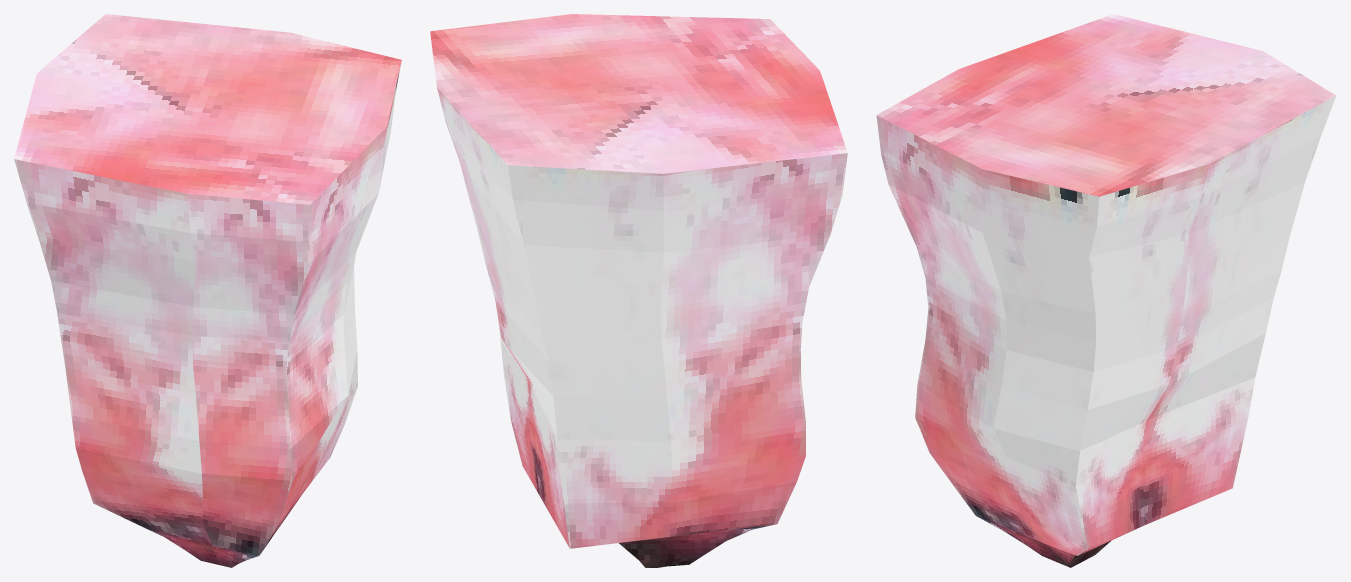
3 renders of one model, left to right at view 1: azimuth 30°, elevation 25°; view 2: azimuth 150°, elevation 25°; view 3: azimuth 270°, elevation 25°, orthographic. The views are drawn at different scales.
Parts seen in each view (by area): view 1: SPLICE_3; view 2: SPLICE_3; view 3: SPLICE_3.
Boxes of the visible parts, <box> form: SPLICE_3: <box>14,14,401,567</box>; SPLICE_3: <box>430,14,847,567</box>; SPLICE_3: <box>876,14,1336,567</box>.
Bounding box in the file's own units: 1.01 × 1.14 × 1.01.
Materials: 1 (1 with a texture image).
